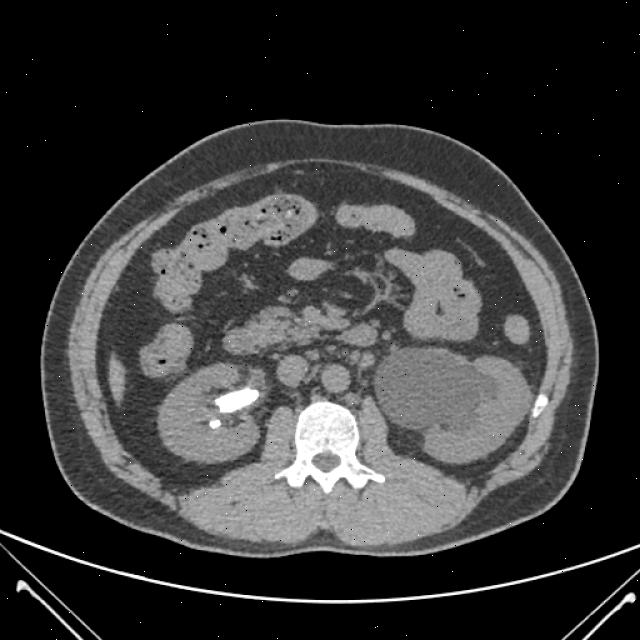kidneystone: (215, 388, 259, 412), (209, 419, 221, 429)
